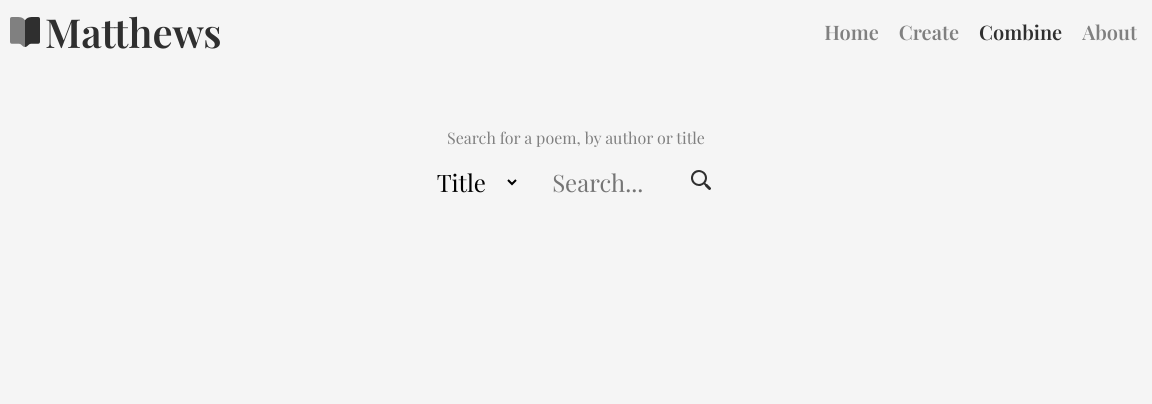
it: Search component › fails to fetch second second results
Select "Title" in the dropdown. click: [473, 182]
box: [425,157,521,207]
Type "Nature" into the field with placeholder "Search...". click: [598, 182]
box: [520,156,675,208]
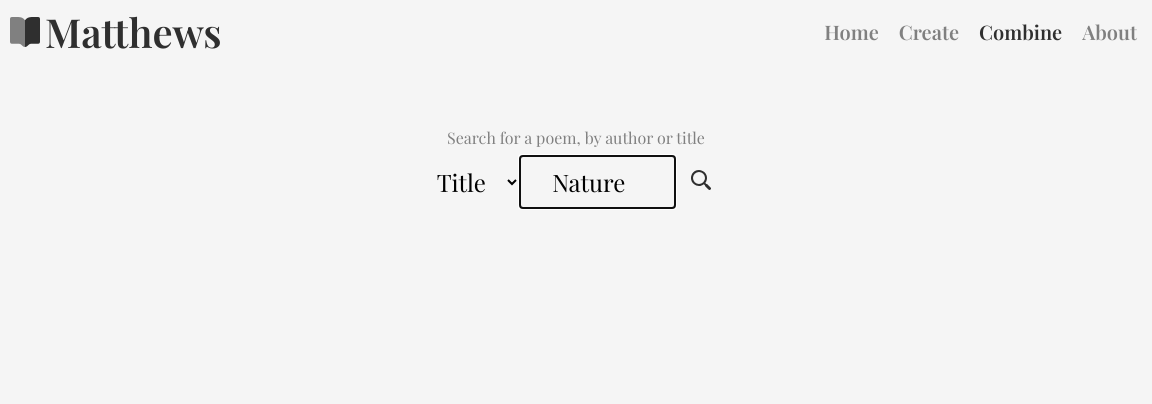
Click the button. click: [701, 190]
box: [675,159,727,221]
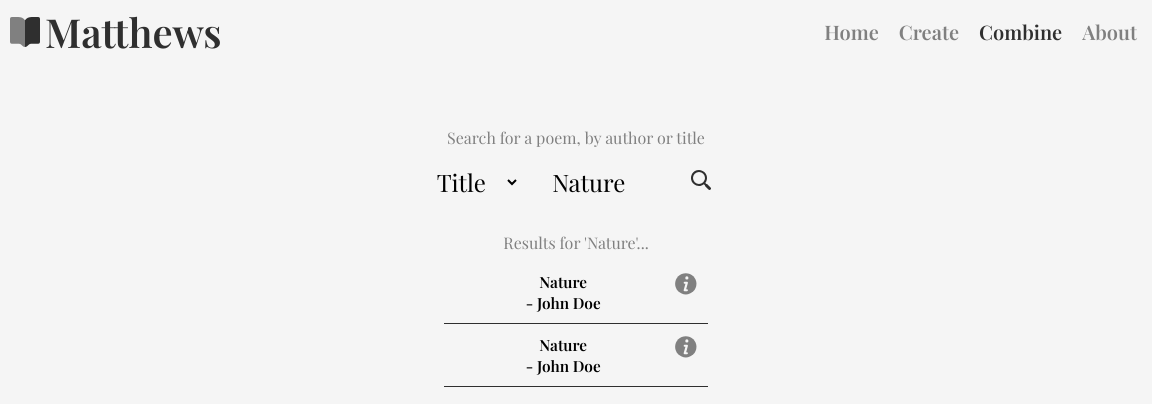
Check: the heading with class "results-header" reads "Results for 'Nature'...", box [503,232,648,253]
Scroll
Click the 2nd element showing "Nature - John Doe". click: [577, 356]
box: [444,324,709,387]
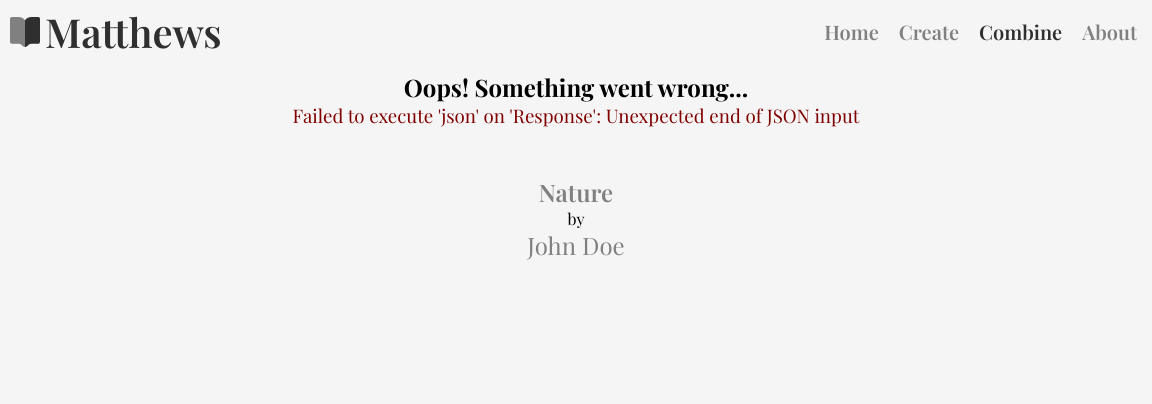
Check: the heading with class "error-h2" shows "Oops!", box [404,71,748,103]
